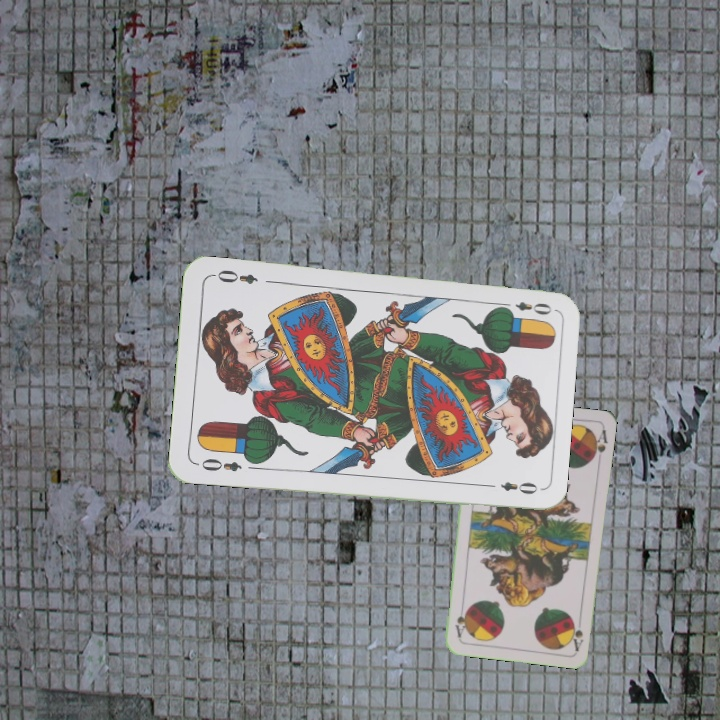EO: (496, 298, 554, 317), (197, 454, 245, 475)
SA: (567, 617, 586, 653)
